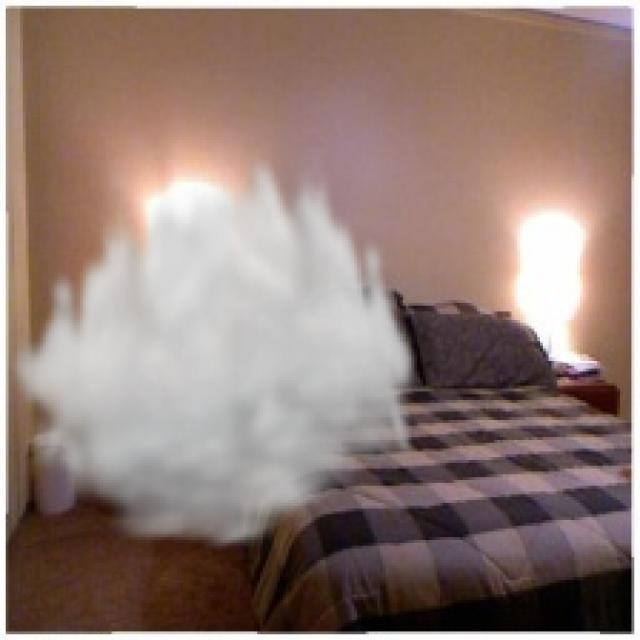Smoke: (6, 142, 420, 558)
